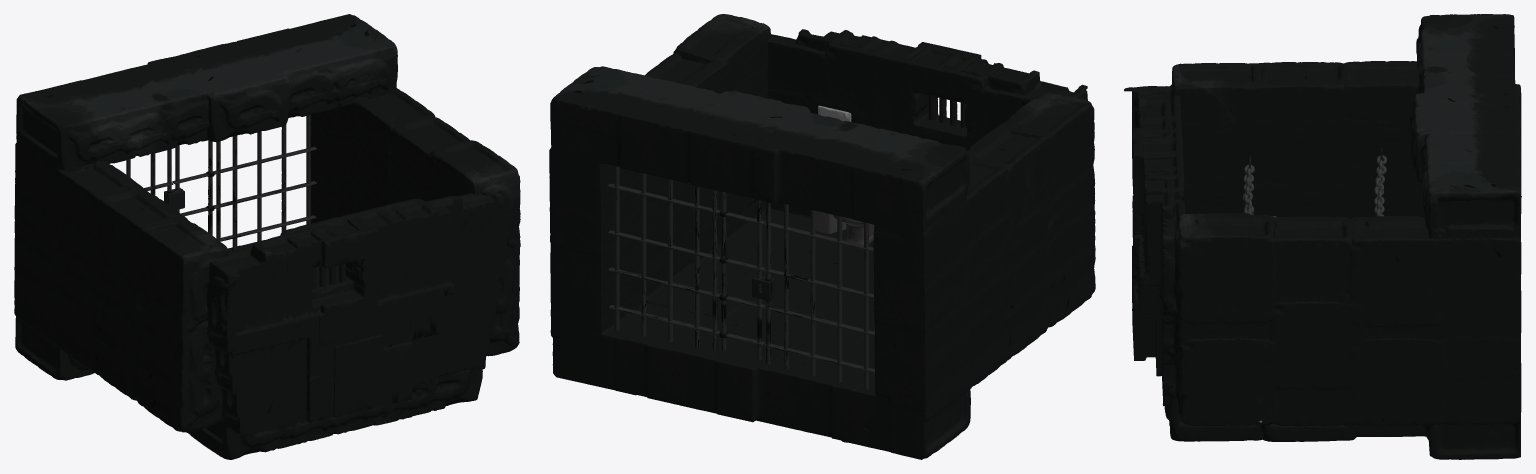
The model's file is jail_cell.glb.
The picture shows the model from 3 angles, left to right: view 1: azimuth 30°, elevation 25°; view 2: azimuth 150°, elevation 25°; view 3: azimuth 270°, elevation 25°; orthographic projection. The views are drawn at different scales.
Visible parts, largest first — view 1: Object_3, Object_4, Object_5, Object_7, Object_6, Object_2; view 2: Object_4, Object_5, Object_3, Object_6, Object_2, Object_7, Object_8; view 3: Object_5, Object_6, Object_7, Object_4, Object_3, Object_8.
Part boxes in pixels (x1,y1,x2,y2): Object_3: (115,201,382,459); Object_4: (14,50,387,440); Object_5: (197,14,456,283); Object_7: (372,130,520,406); Object_6: (310,188,519,427); Object_2: (126,115,316,250); Object_4: (717,100,1030,459); Object_5: (549,30,914,443); Object_3: (892,42,1095,344); Object_6: (550,187,873,387); Object_2: (608,166,874,389); Object_7: (658,14,895,205); Object_8: (815,95,966,245); Object_5: (1143,108,1521,441); Object_6: (1133,327,1521,459); Object_7: (1133,175,1312,369); Object_4: (1132,14,1521,340); Object_3: (1124,62,1309,325); Object_8: (1242,147,1386,216).
Bounding box in the file's own units: 4.78 × 3.39 × 4.48.
Materials: 5 (5 with a texture image).
